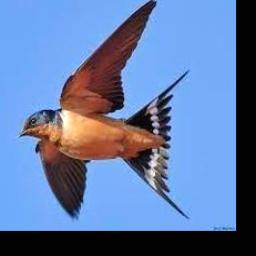Swallow: (14, 0, 190, 220)
